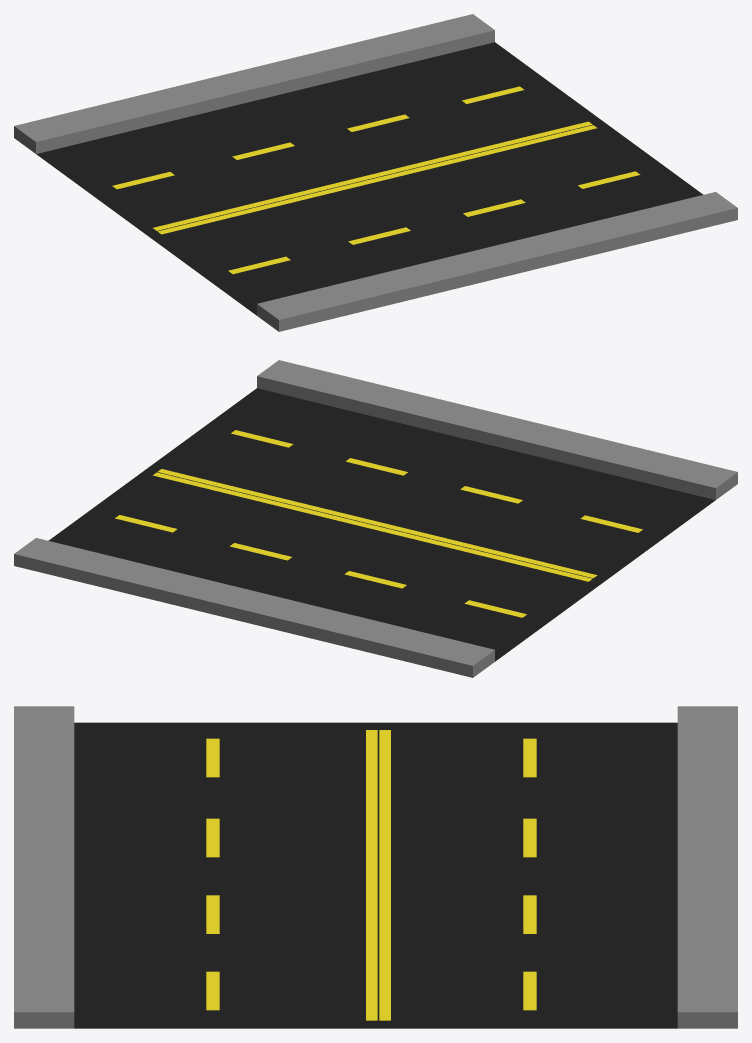
The model's file is carete.fbx.
The picture shows the model from 3 angles, top to bottom: view 1: azimuth 30°, elevation 25°; view 2: azimuth 150°, elevation 25°; view 3: azimuth 270°, elevation 25°; orthographic projection. The views are drawn at different scales.
Visible parts, largest first — view 1: StreetILarge; view 2: StreetILarge; view 3: StreetILarge.
Boxes of the visible parts, left/top/right/bottom form: StreetILarge: left=14, top=14, right=737, bottom=331; StreetILarge: left=14, top=360, right=737, bottom=677; StreetILarge: left=14, top=706, right=737, bottom=1028.
Size of the model in its own units: 400 by 10 by 400.
Materials: 1 (1 with a texture image).
